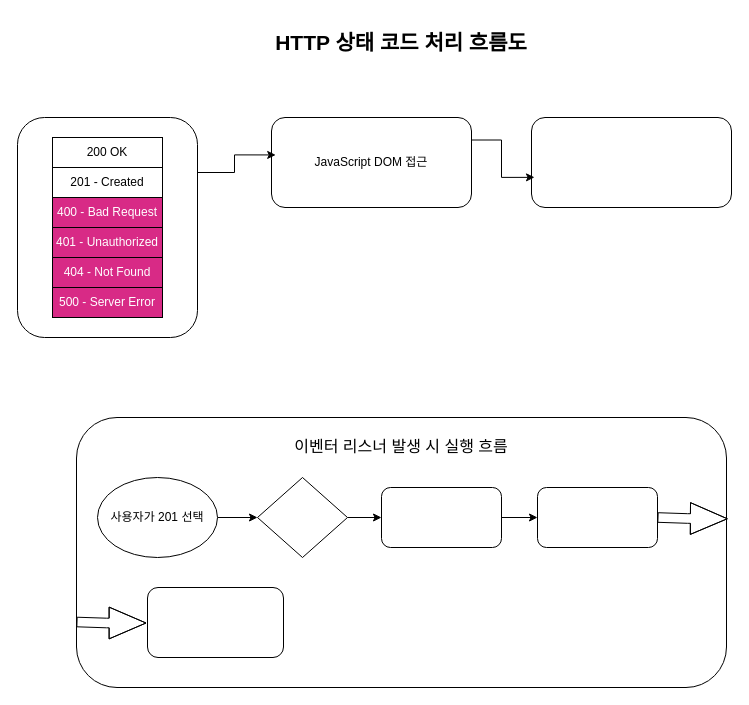
Some shapes in this 749 by 705 pixel diagram are drawn without their labels. The shapes that lost their labels are listed below. From the top down, each one's box as (x1, y1, x2, y2) in pixels, then its label:
(530, 116, 732, 208): 이벤트 리스너
(256, 476, 348, 558): "chage" 이벤트 발생
(380, 486, 502, 548): selectElement value => "201" (String)
(536, 486, 658, 548): parseInt("201") => 201 (Number)
(146, 586, 284, 658): handleStatusCode(201) 함수 호출
